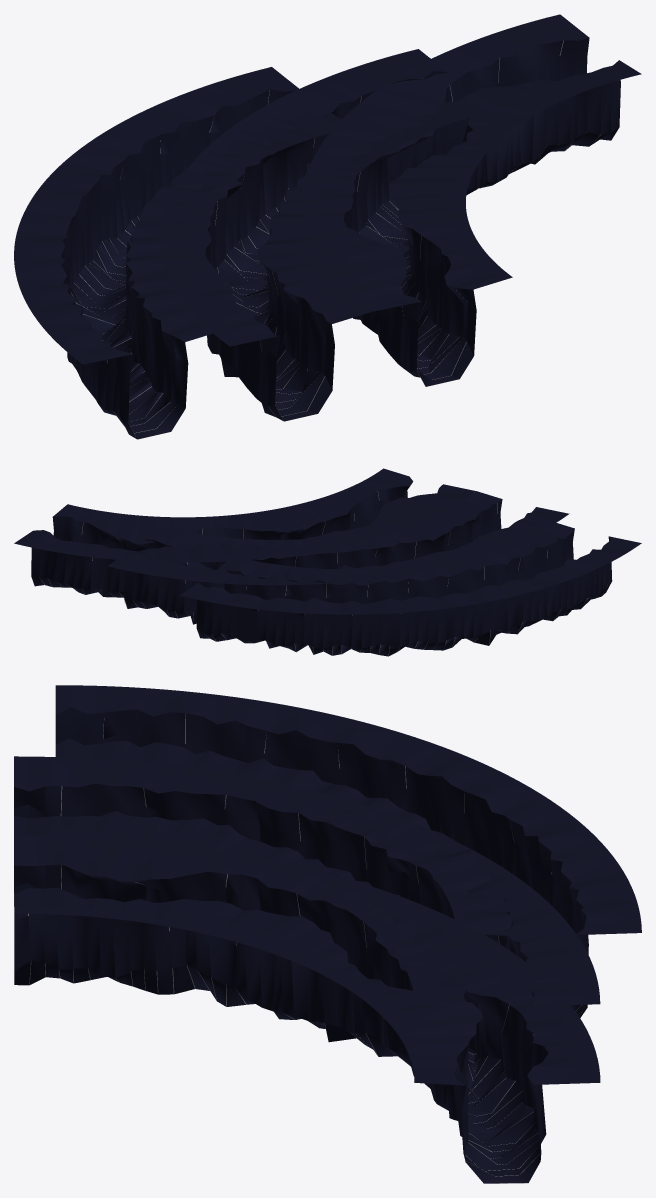
File: rightcurve.FBX
3 views of the same model, one above another, from view 1: azimuth 30°, elevation 25°; view 2: azimuth 150°, elevation 25°; view 3: azimuth 270°, elevation 25° (orthographic). The views are drawn at different scales.
Visible parts, largest first — view 1: rightcurve002, rightcurve003, rightcurve001; view 2: rightcurve003, rightcurve002, rightcurve001; view 3: rightcurve002, rightcurve003, rightcurve001.
Boxes of the visible parts, bbox=[...] form: rightcurve002: bbox=[302, 14, 641, 386]; rightcurve003: bbox=[14, 67, 353, 439]; rightcurve001: bbox=[160, 49, 499, 421]; rightcurve003: bbox=[179, 520, 641, 656]; rightcurve002: bbox=[14, 468, 476, 597]; rightcurve001: bbox=[107, 491, 569, 624]; rightcurve002: bbox=[14, 835, 600, 1183]; rightcurve003: bbox=[55, 685, 641, 1017]; rightcurve001: bbox=[14, 756, 600, 1100].
Size of the model in its own units: 7.71 by 0.9882 by 5.15.
